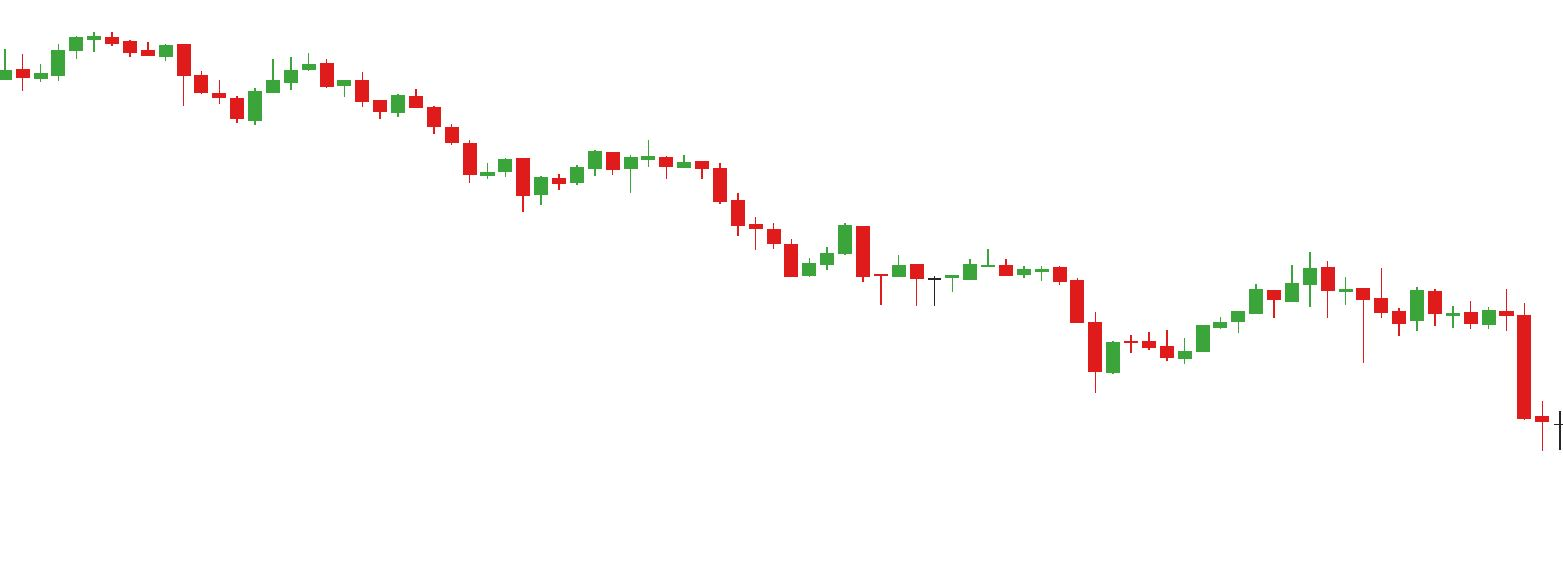sell: (1033, 257, 1338, 342)
